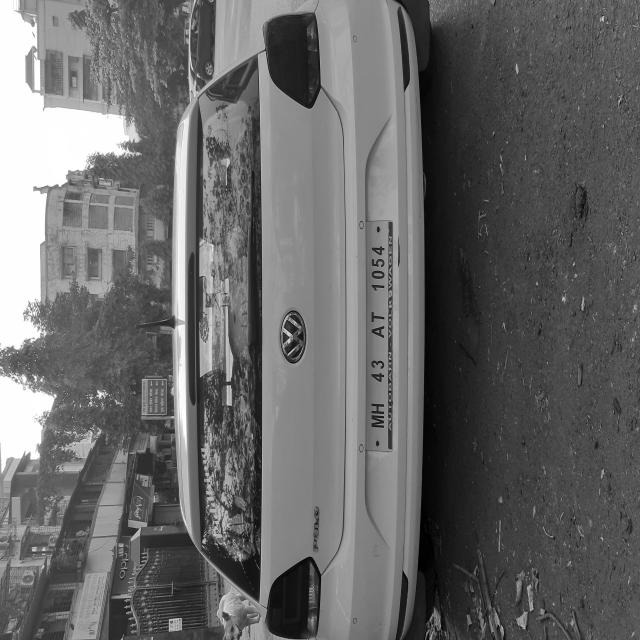car: (0, 346, 311, 640)
